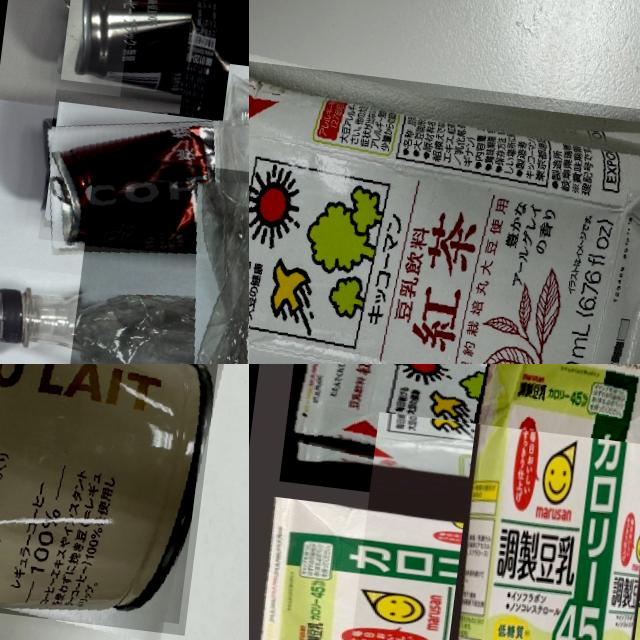Aluminium Foil: (249, 51, 640, 364), (332, 411, 640, 640), (278, 364, 640, 548)
Can: (0, 364, 222, 635), (36, 89, 249, 281), (112, 0, 249, 173)
Transparent Plastic Bottle: (50, 153, 249, 364)
